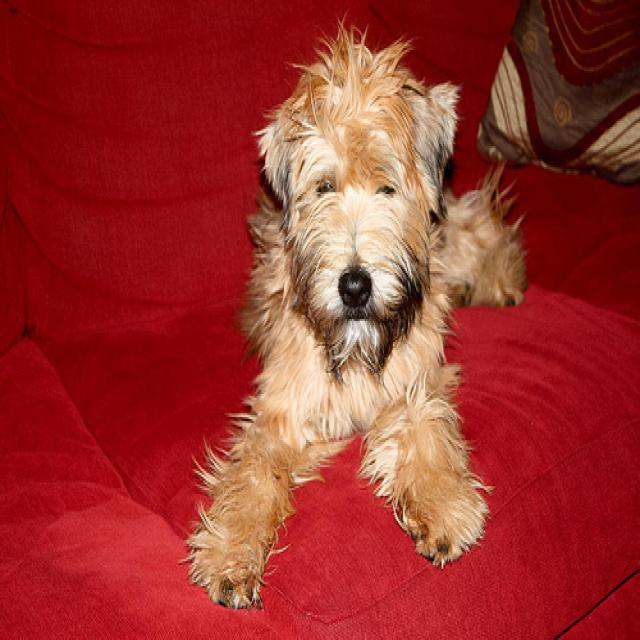dog-wheaten_terrier: (179, 6, 531, 617)
